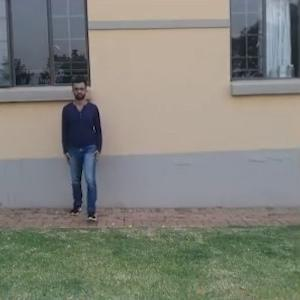follow: (60, 75, 102, 218)
